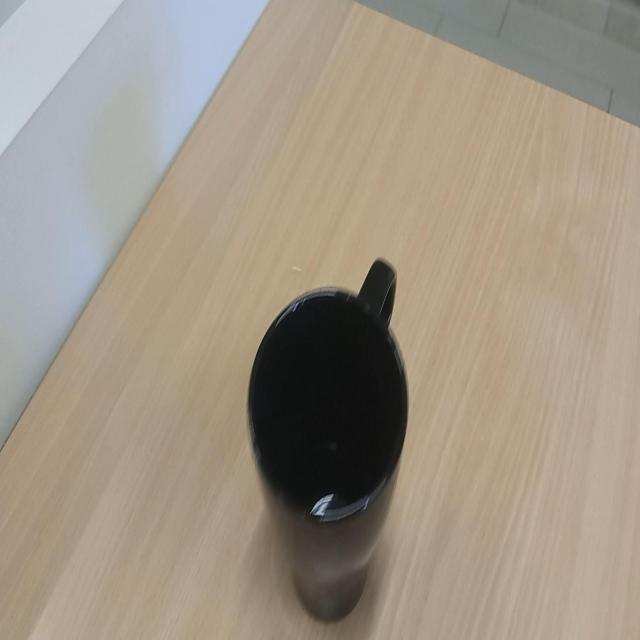cup: (243, 254, 413, 628)
